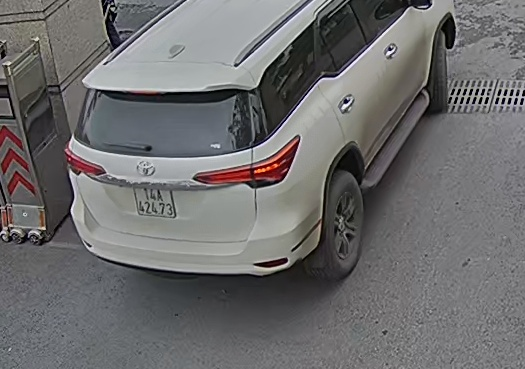vehicle plate: (131, 180, 183, 218)
